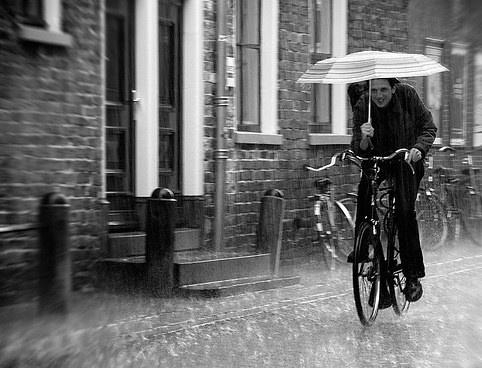bicycle: (341, 144, 422, 330), (306, 154, 350, 273)
